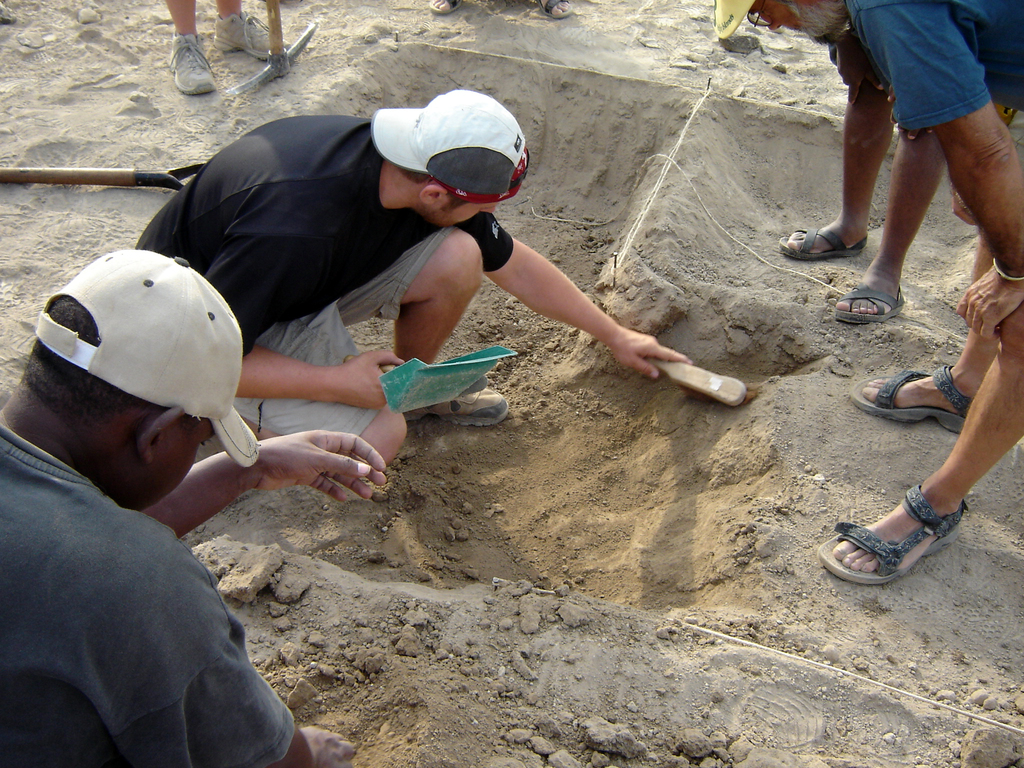face: (110, 351, 222, 506)
